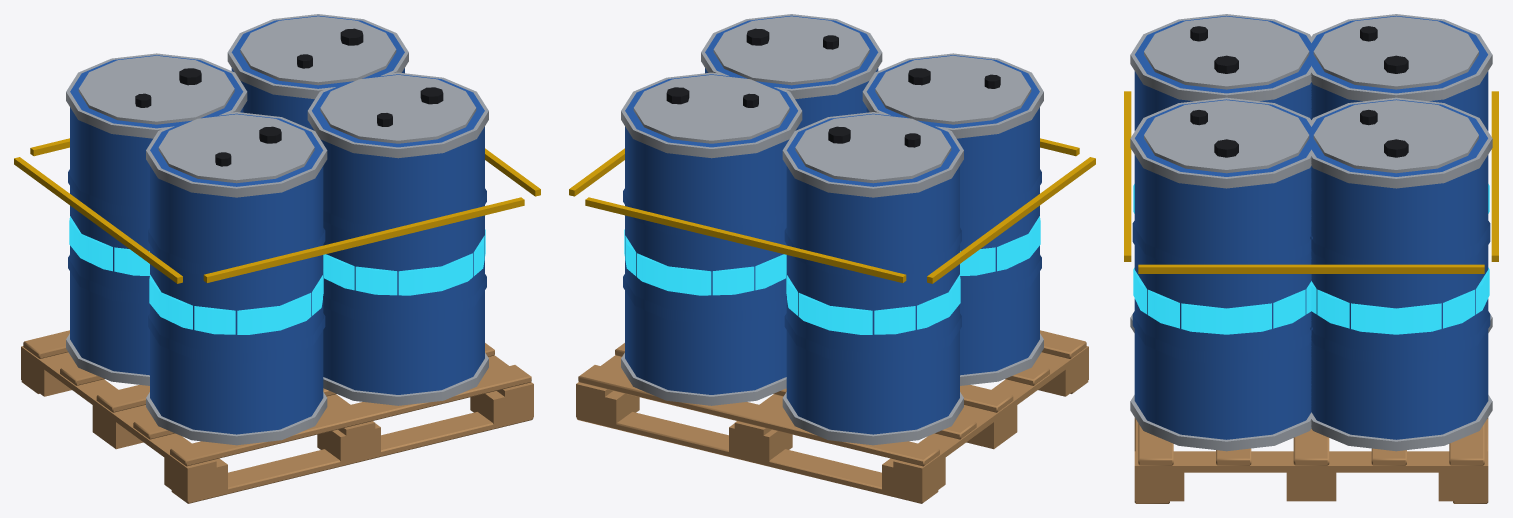
File: barrel_coolant_drums_pallet.glb
The picture shows the model from 3 angles, left to right: view 1: azimuth 30°, elevation 25°; view 2: azimuth 150°, elevation 25°; view 3: azimuth 270°, elevation 25°; orthographic projection. The views are drawn at different scales.
Parts seen in each view (by area): view 1: barrel_coolant_drums_pallet; view 2: barrel_coolant_drums_pallet; view 3: barrel_coolant_drums_pallet.
Part boxes in pixels (x1,y1,x2,y2): barrel_coolant_drums_pallet: [14, 14, 540, 503]; barrel_coolant_drums_pallet: [569, 14, 1095, 503]; barrel_coolant_drums_pallet: [1124, 14, 1498, 503].
Size of the model in its own units: 1.26 by 1.03 by 1.06.
